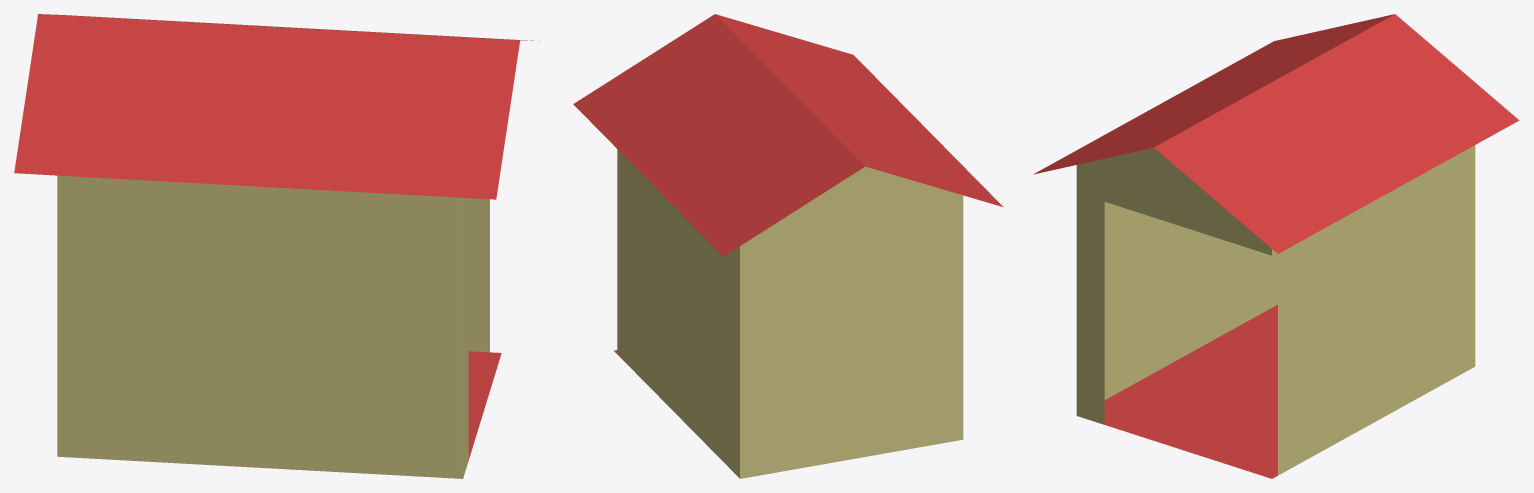
The picture shows the model from 3 angles, left to right: view 1: azimuth 30°, elevation 25°; view 2: azimuth 150°, elevation 25°; view 3: azimuth 270°, elevation 25°; orthographic projection. The views are drawn at different scales.
Parts seen in each view (by area): view 1: group_5, group_3, group_4, group_6; view 2: group_5, group_3, group_4; view 3: group_5, group_3, group_6, group_4.
Part boxes in pixels (x1,y1,x2,y2): group_5: [57, 175, 489, 478]; group_3: [41, 14, 509, 199]; group_4: [14, 14, 539, 199]; group_6: [468, 351, 501, 459]; group_5: [617, 149, 963, 478]; group_3: [573, 14, 962, 256]; group_4: [573, 14, 1003, 207]; group_5: [1076, 145, 1475, 475]; group_3: [1077, 14, 1519, 253]; group_6: [1104, 304, 1277, 478]; group_4: [1033, 14, 1394, 253].
Size of the model in its own units: 15.98 by 15.45 by 10.85.
